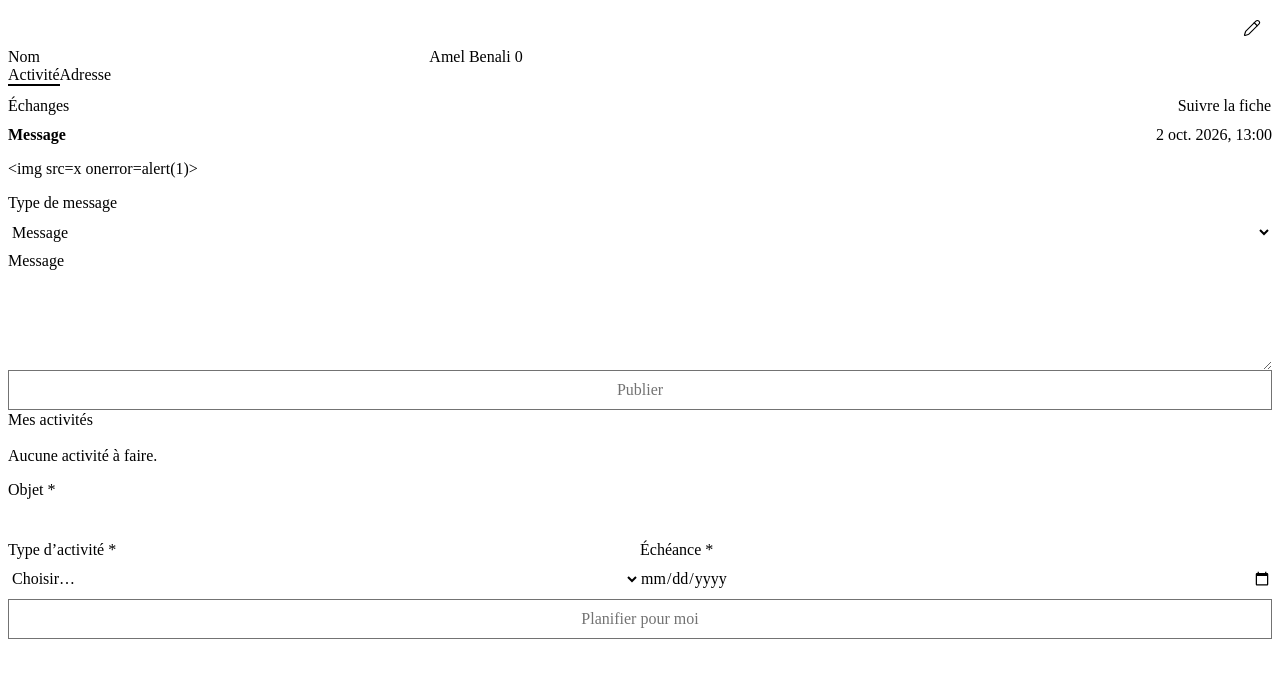
Scenario: generic chatter drafts › retains a rejected draft and renders attacker text as text
The image size is (1280, 689).
Check: the text "<img src=x onerror=alert(1)>" is shown, box [8, 160, 198, 177]
Type "À conserver" into the text box labelled "Message" at (640, 320), box [8, 270, 1272, 370]
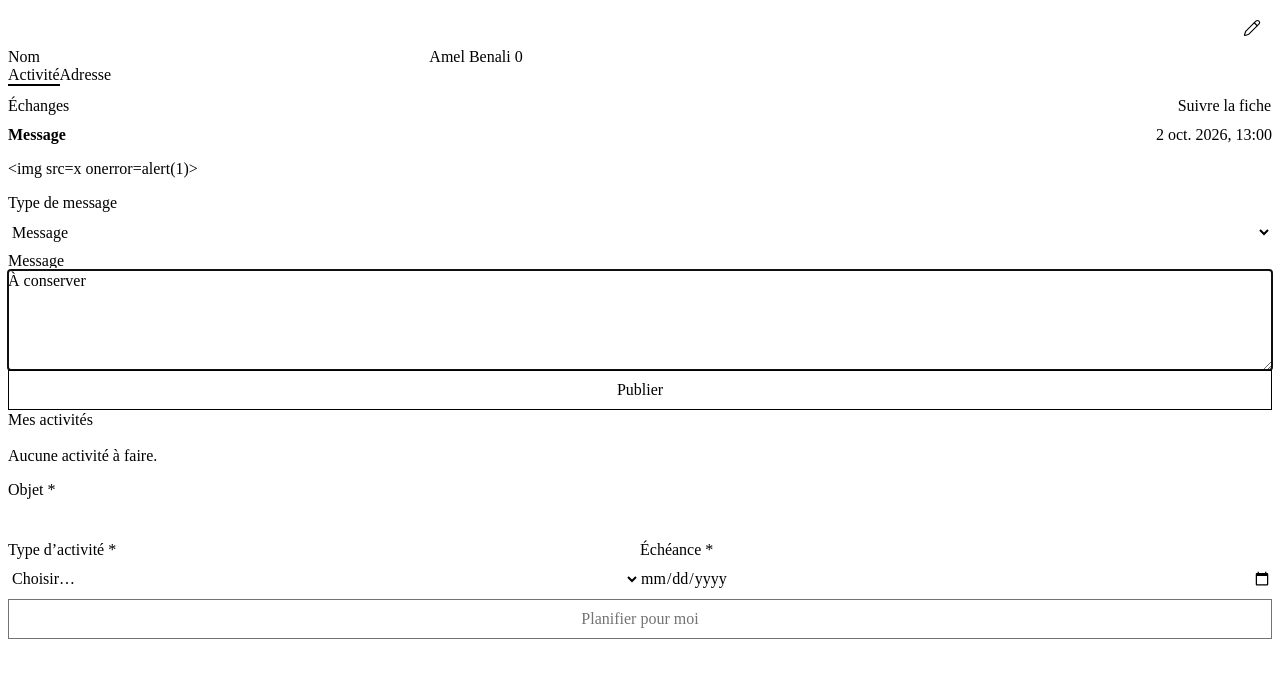
Click the button "Publier" at (640, 390), box [8, 370, 1272, 410]
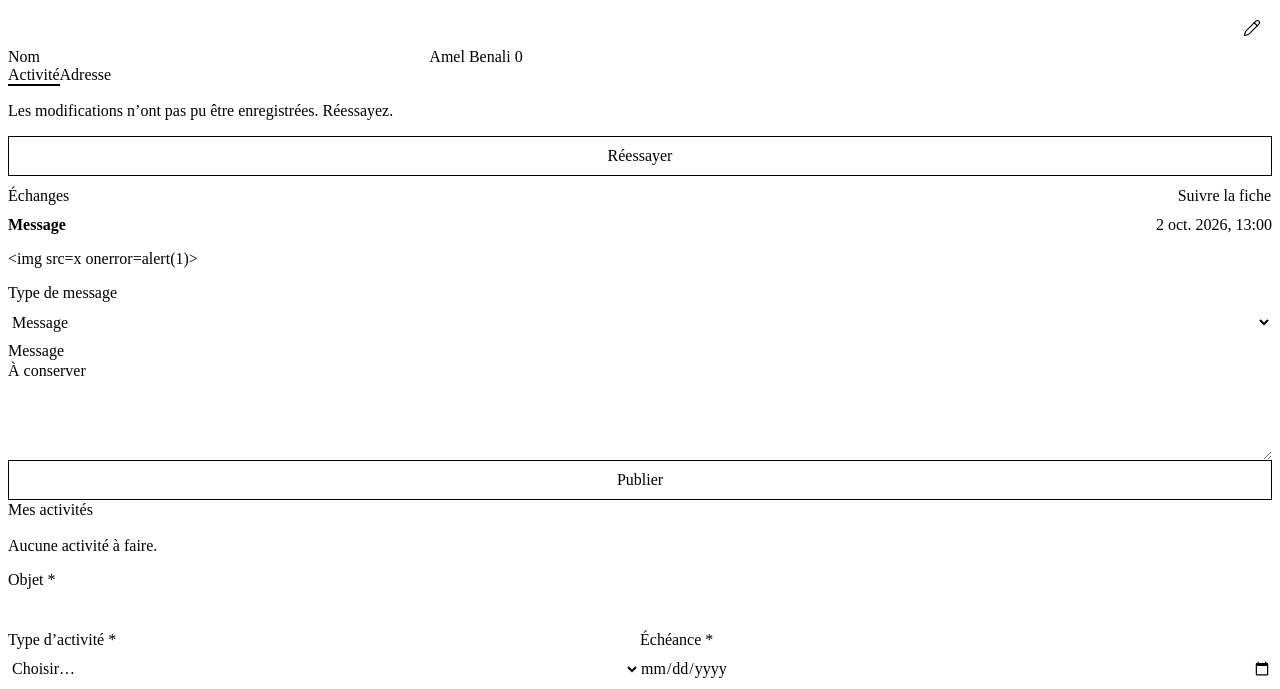
Check: the message "Les modifications n’ont pas pu être enregistrées. Réessayez." is shown, box [8, 102, 393, 119]
